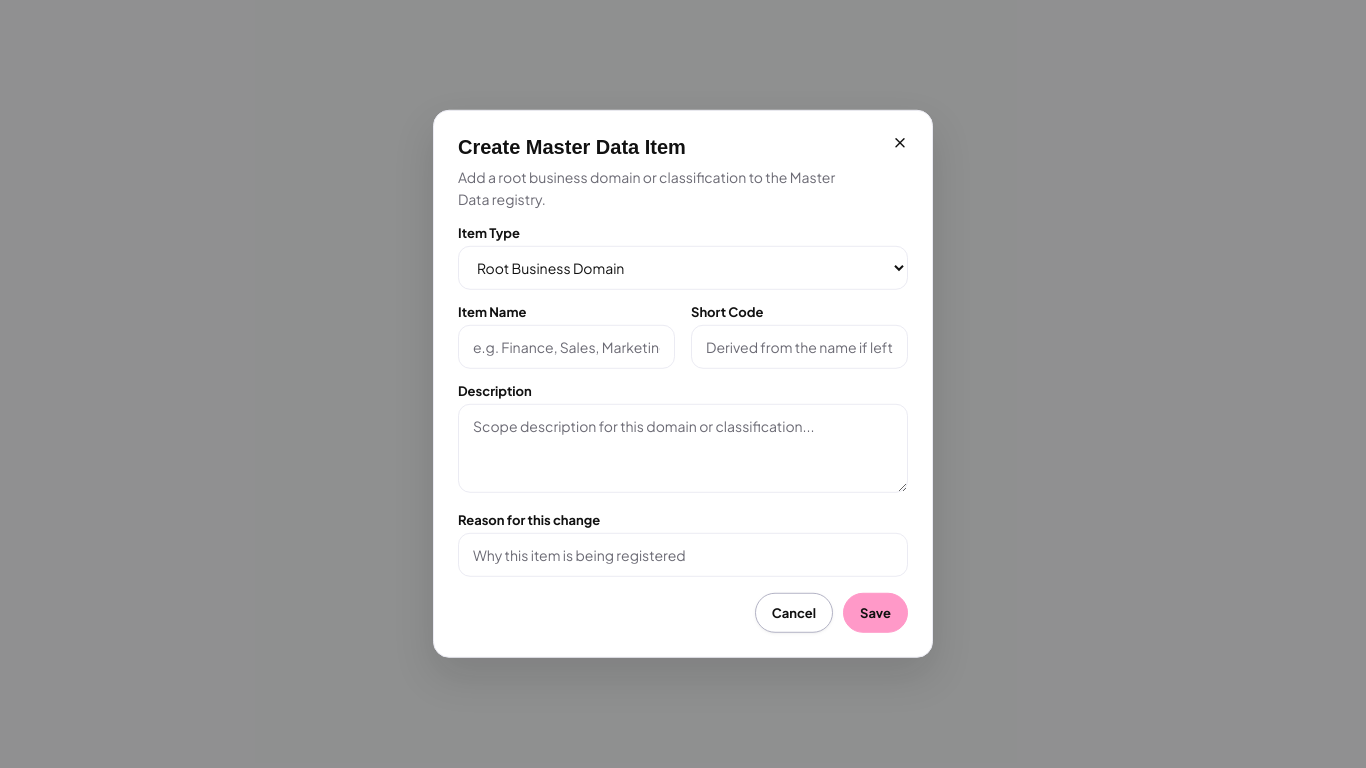
Test: a duplicate short code is rendered as the gesture that repairs it
Type "Finance" into the field labelled "Item Name".
click(566, 347); type("Finance")  # box [458,325,675,369]
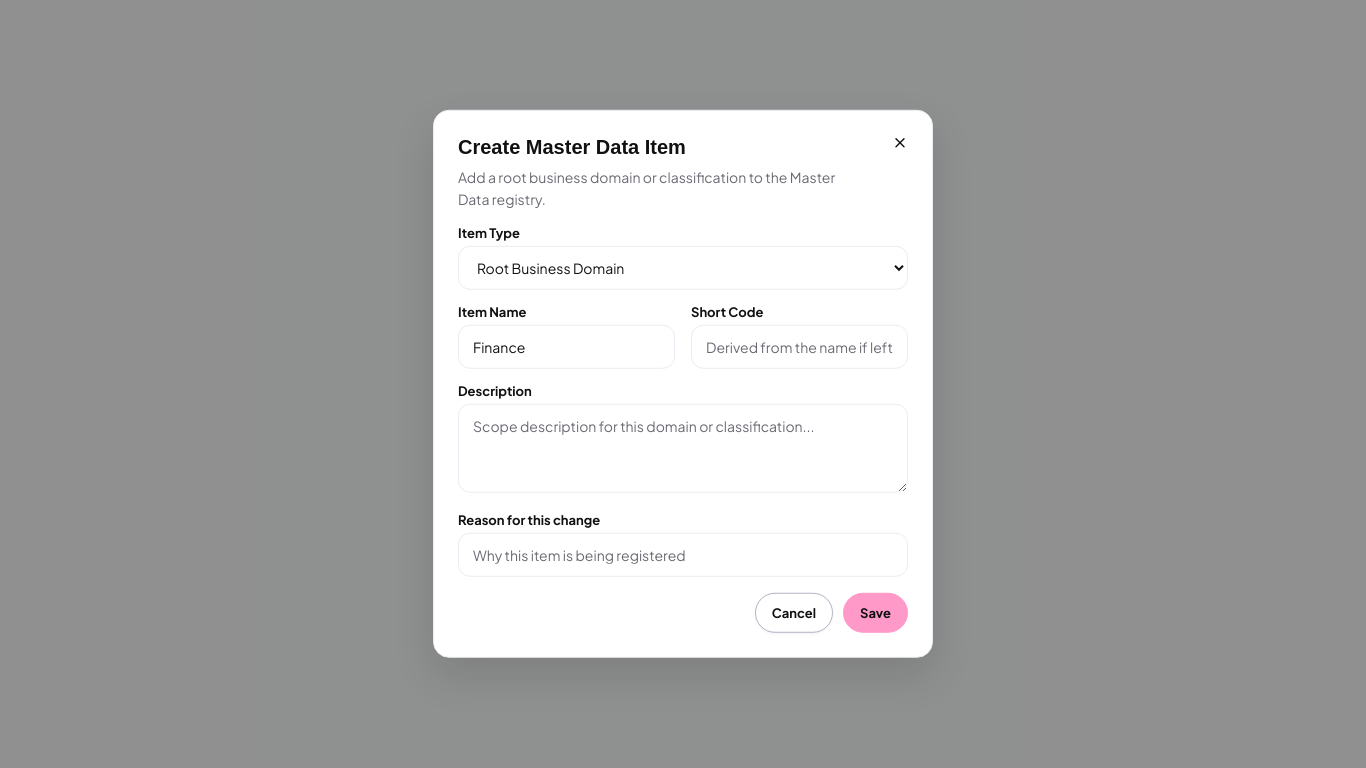
Type "finance" into the field labelled "Short Code".
click(800, 347); type("finance")  # box [691,325,908,369]
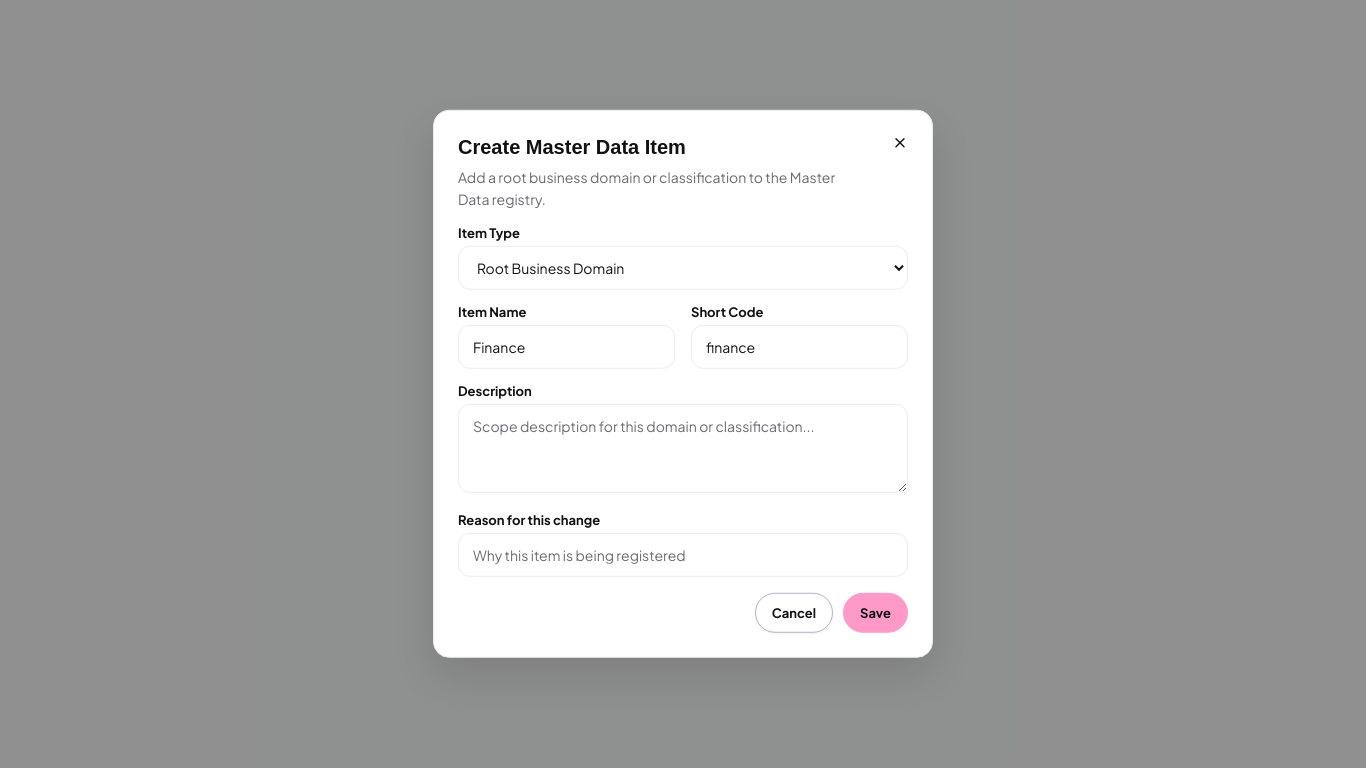
Type "New finance perimeter" into the field labelled "Reason for this change".
click(683, 555); type("New finance perimeter")  # box [458,533,908,577]
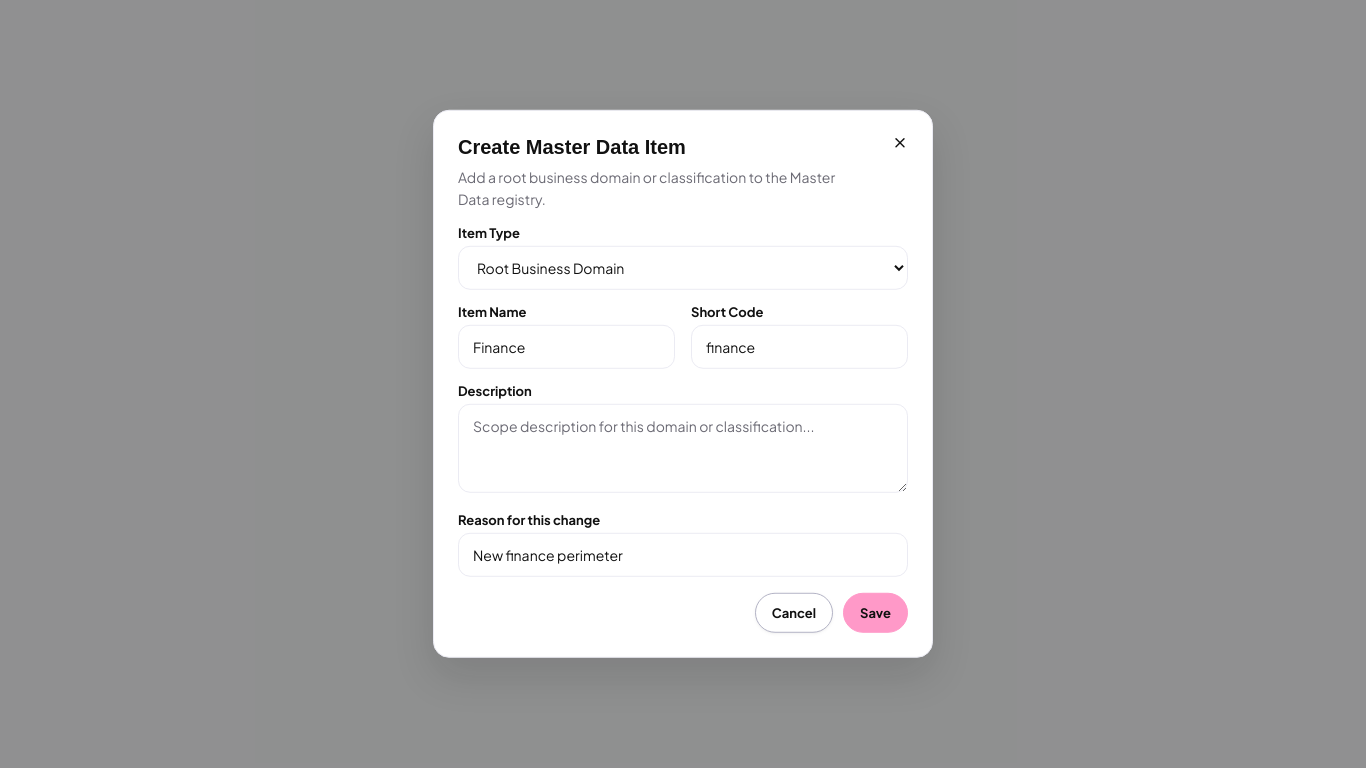
Click the button "Save".
click(876, 613)  # box [843,593,908,633]
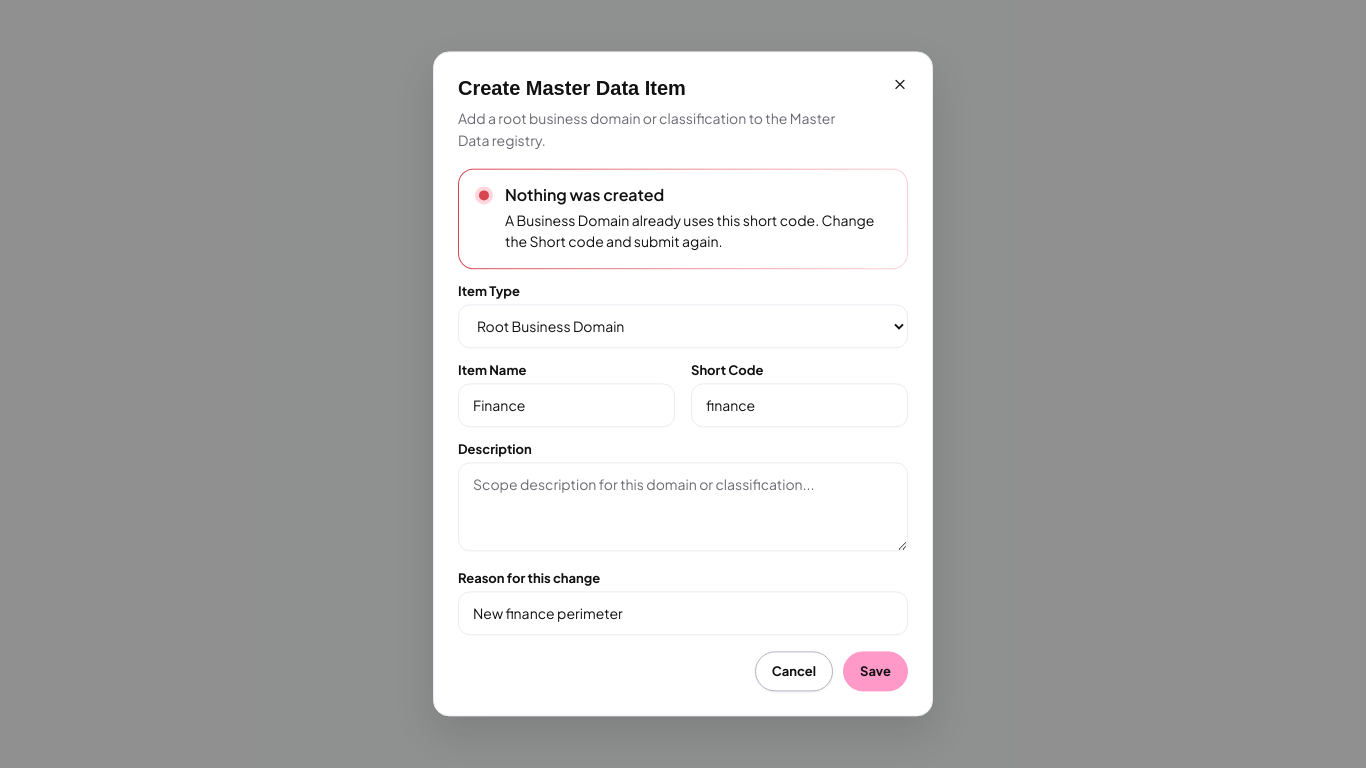
Now the text "Change the Short code and submit again" is shown, box [505,211,874,250]
